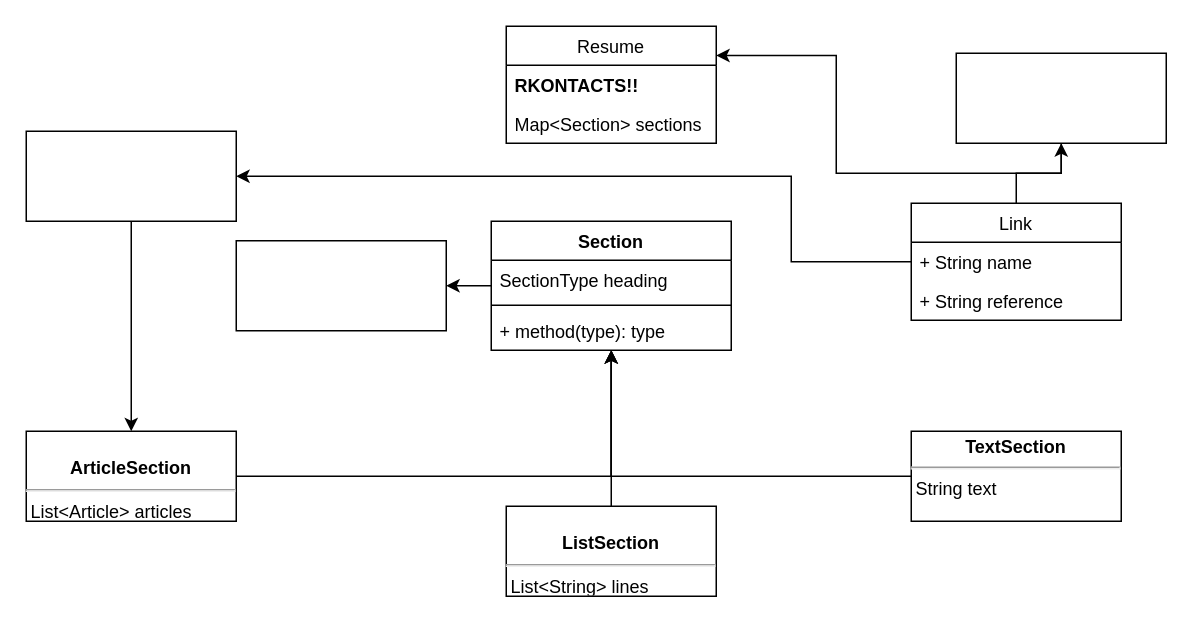
Some shapes in this 1193 by 623 pixel diagram are drawn without their labels. Each missing label, with the centre of its shape:
Article: the point at 130,175
Contacts !!!!!!!!!!!!: the point at 1060,97
enum SectionType: the point at 340,285
